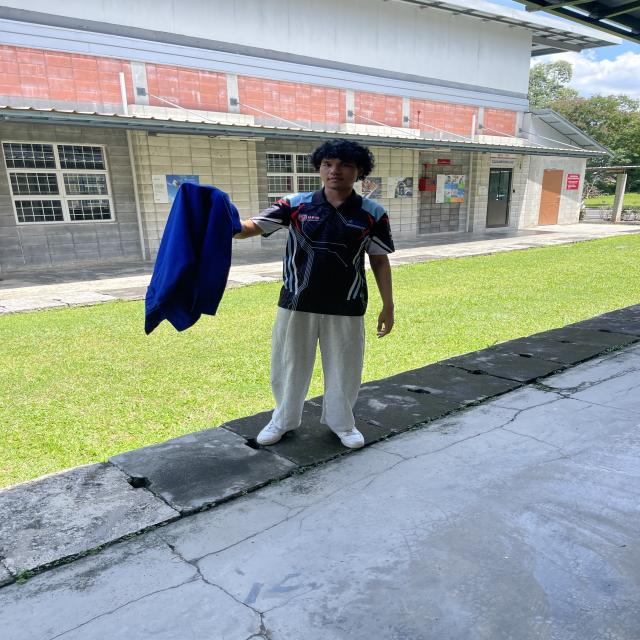person_without_labcoat: (145, 139, 394, 449)
